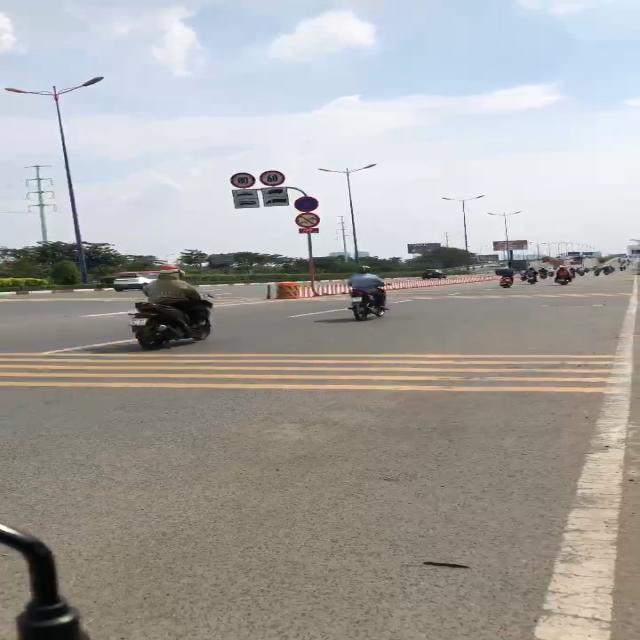Bien bao toc do toi da cho phep: (227, 172, 259, 190), (258, 168, 288, 187)
